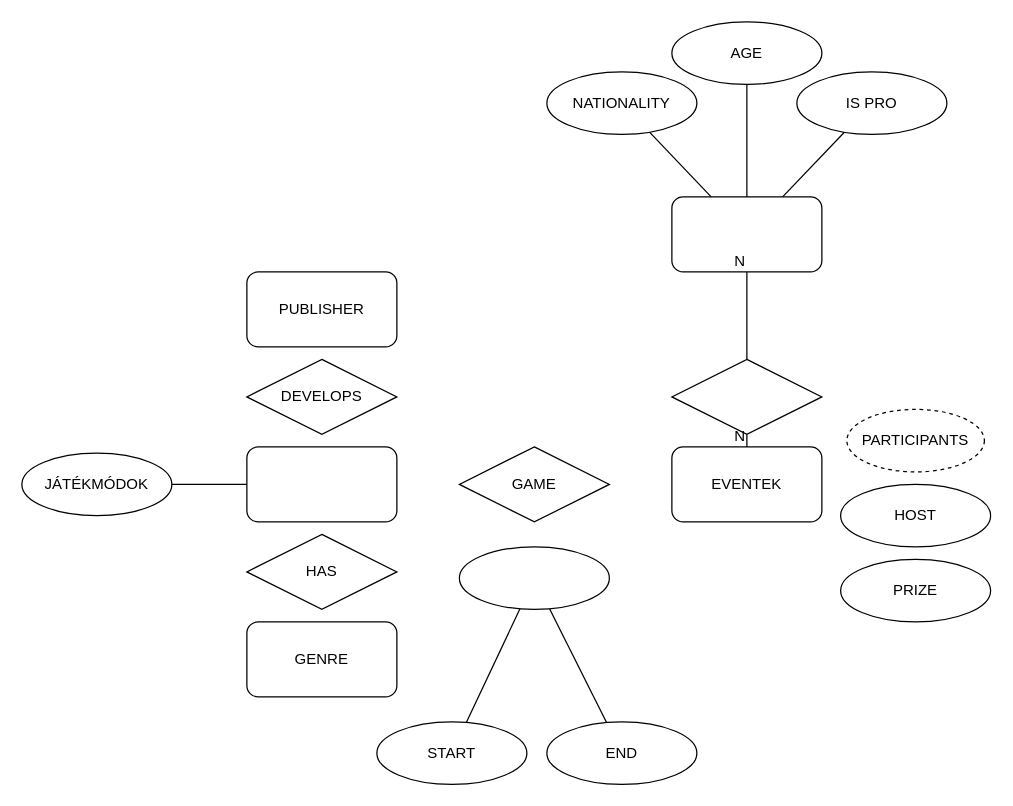
This 1013x806 diagram has some shape labels left out. Each missing label, with the centre of its shape:
JÁTÉKOK: the point at 321,484
JÁTÉKOSOK: the point at 746,234
LENGTH: the point at 533,577
PARTICIPANT: the point at 746,396
